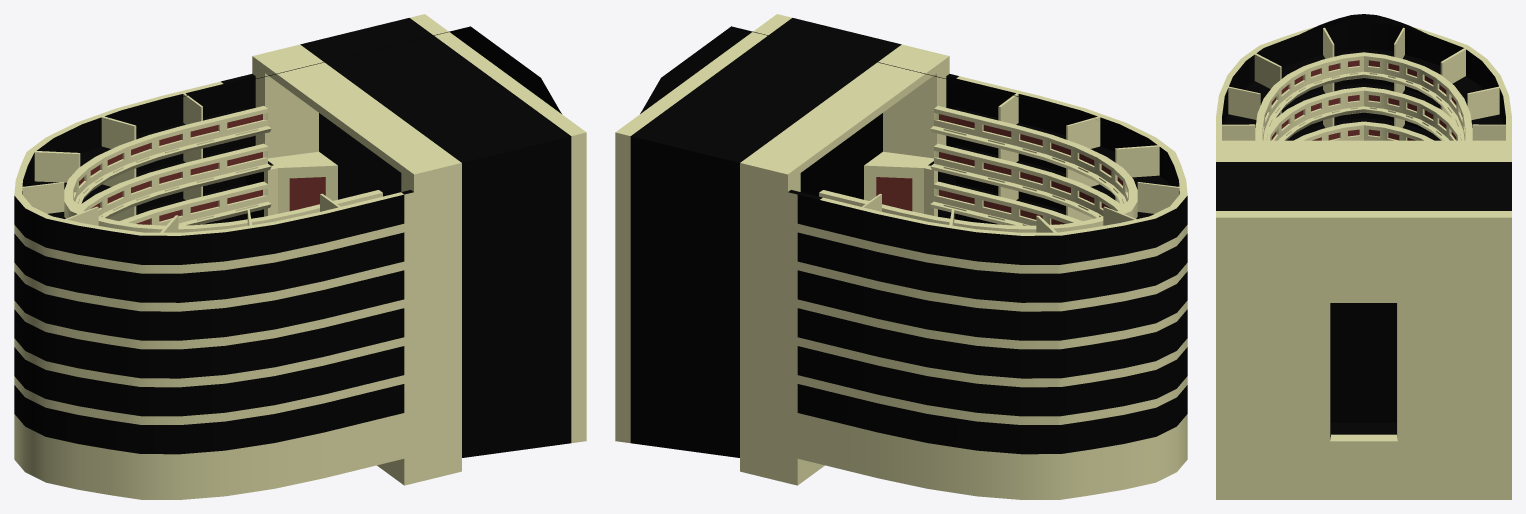
File: Opera.fbx
The picture shows the model from 3 angles, left to right: view 1: azimuth 30°, elevation 25°; view 2: azimuth 150°, elevation 25°; view 3: azimuth 270°, elevation 25°; orthographic projection. The views are drawn at different scales.
Parts seen in each view (by area): view 1: Cube.002, Circle.009, Circle, Circle.008, Circle.003, Circle.002, Circle.001; view 2: Cube.002, Circle.009, Circle, Circle.008, Circle.003, Circle.002, Circle.001; view 3: Cube.002, Circle.009, Cube.003, Circle.008, Circle.003.
Part boxes in pixels (x1=…): Cube.002: x1=252, y1=14, x2=586, y2=469; Circle.009: x1=14, y1=26, x2=561, y2=273; Circle: x1=14, y1=74, x2=461, y2=499; Circle.008: x1=14, y1=138, x2=404, y2=311; Circle.003: x1=14, y1=176, x2=404, y2=349; Circle.002: x1=14, y1=214, x2=404, y2=387; Circle.001: x1=14, y1=346, x2=404, y2=424; Cube.002: x1=615, y1=14, x2=949, y2=469; Circle.009: x1=640, y1=26, x2=1187, y2=273; Circle: x1=740, y1=74, x2=1187, y2=499; Circle.008: x1=797, y1=138, x2=1187, y2=311; Circle.003: x1=797, y1=176, x2=1187, y2=349; Circle.002: x1=797, y1=214, x2=1187, y2=387; Circle.001: x1=797, y1=346, x2=1187, y2=424; Cube.002: x1=1216, y1=140, x2=1511, y2=499; Circle.009: x1=1216, y1=14, x2=1511, y2=140; Cube.003: x1=1331, y1=303, x2=1396, y2=422; Circle.008: x1=1270, y1=78, x2=1457, y2=140; Circle.003: x1=1287, y1=112, x2=1440, y2=140.
Bounding box in the file's own units: 501 × 328 × 292.
